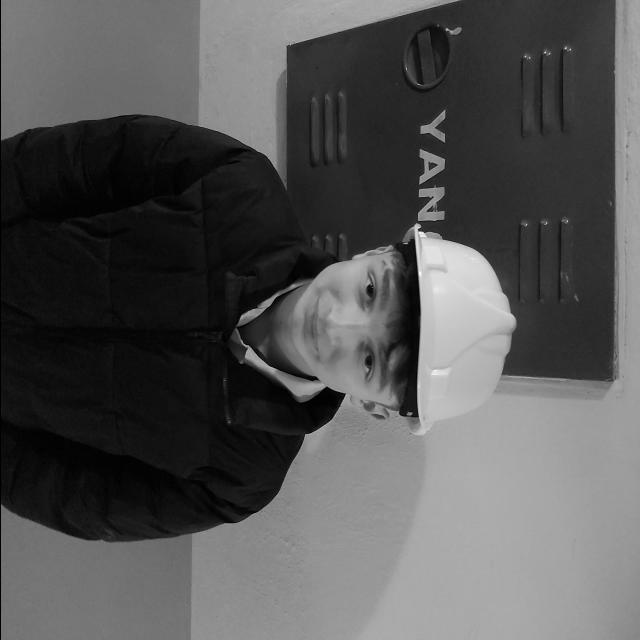construction helmet: (410, 224, 516, 437)
